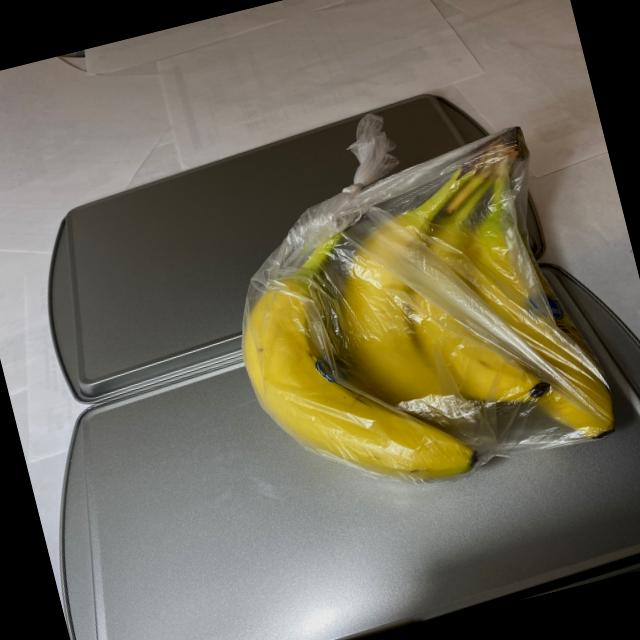banana: (205, 113, 638, 548)
